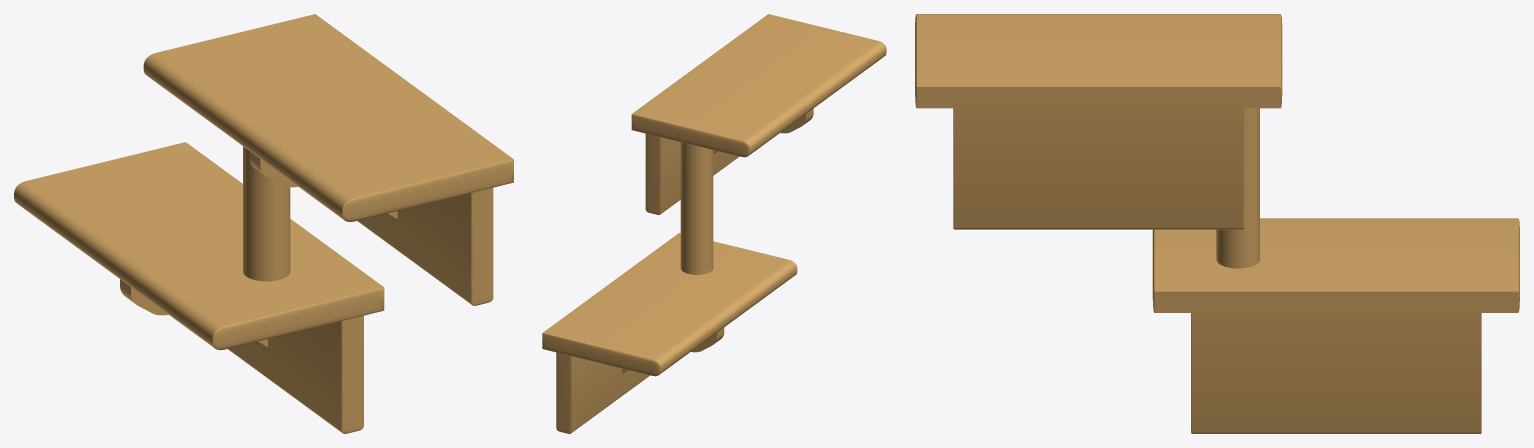
The model's file is duality_2plateforms.fbx.
3 renders of one model, left to right at view 1: azimuth 30°, elevation 25°; view 2: azimuth 150°, elevation 25°; view 3: azimuth 270°, elevation 25°, orthographic. The views are drawn at different scales.
Visible parts, largest first — view 1: Cylindre.001; view 2: Cylindre.001; view 3: Cylindre.001.
Part boxes in pixels (box(x1,y1,x2,y2)): Cylindre.001: box(14, 14, 513, 433); Cylindre.001: box(542, 14, 886, 433); Cylindre.001: box(915, 14, 1519, 433).
Bounding box in the file's own units: 200 × 423 × 666.
